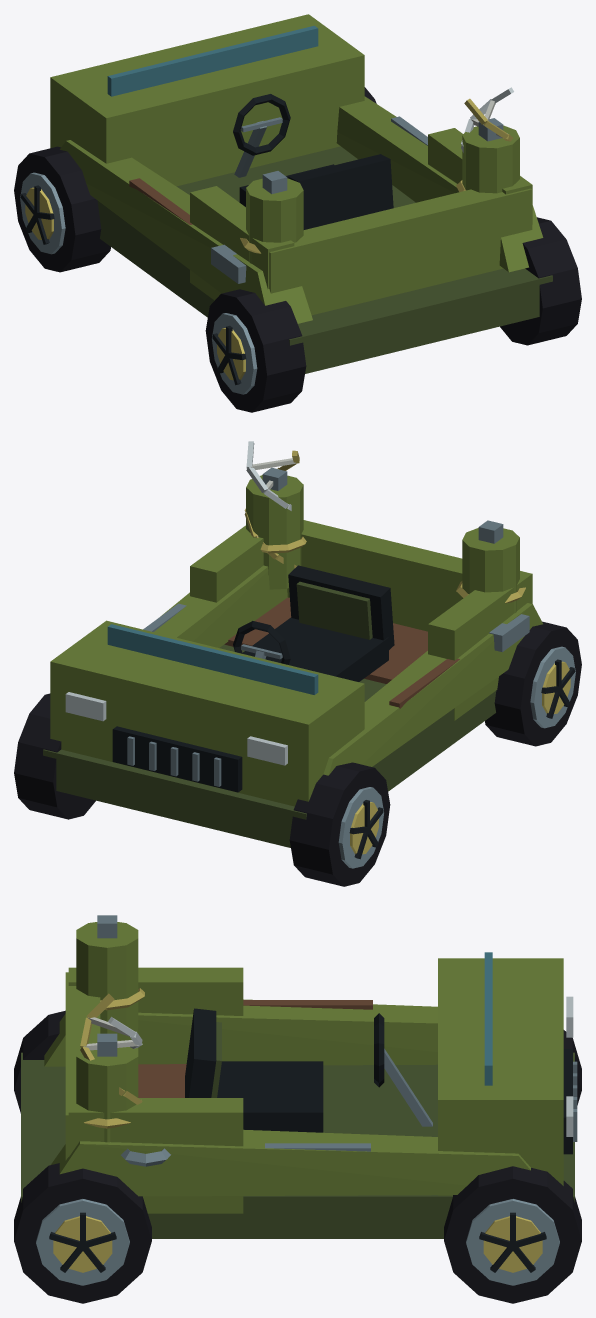
File: kart.glb
The picture shows the model from 3 angles, top to bottom: view 1: azimuth 30°, elevation 25°; view 2: azimuth 150°, elevation 25°; view 3: azimuth 270°, elevation 25°; orthographic projection. The views are drawn at different scales.
Parts seen in each view (by area): view 1: identity-truck-truck-utility-body, wheel-rear-left, wheel-front-left, identity-truck-driver-cockpit, identity-truck-motif-tanks, wheel-rear-right, identity-truck-motif-tools, identity-truck-motif-dna; view 2: identity-truck-truck-utility-body, identity-truck-driver-cockpit, wheel-front-left, identity-truck-motif-tanks, wheel-rear-left, wheel-front-right, identity-truck-motif-tools, identity-truck-motif-dna; view 3: identity-truck-truck-utility-body, wheel-front-right, wheel-rear-right, identity-truck-driver-cockpit, identity-truck-motif-tanks, identity-truck-motif-tools, wheel-rear-left, identity-truck-motif-dna.
Part boxes in pixels (box(x1,y1,x2,y2)): identity-truck-truck-utility-body: box(50, 14, 552, 373); wheel-rear-left: box(205, 289, 306, 412); wheel-front-left: box(14, 146, 110, 272); identity-truck-driver-cockpit: box(233, 94, 393, 229); identity-truck-motif-tanks: box(240, 118, 519, 263); wheel-rear-right: box(500, 217, 581, 345); identity-truck-motif-tools: box(129, 116, 427, 283); identity-truck-motif-dna: box(461, 87, 513, 152); identity-truck-truck-utility-body: box(43, 520, 542, 847); identity-truck-driver-cockpit: box(233, 565, 394, 681); wheel-front-left: box(289, 762, 390, 886); identity-truck-motif-tanks: box(246, 467, 525, 613); wheel-rear-left: box(485, 621, 581, 746); wheel-front-right: box(14, 693, 95, 819); identity-truck-motif-tools: box(143, 603, 529, 708); identity-truck-motif-dna: box(244, 441, 299, 568); identity-truck-truck-utility-body: box(21, 952, 577, 1238); wheel-front-right: box(444, 1166, 581, 1303); wheel-rear-right: box(14, 1163, 151, 1303); identity-truck-driver-cockpit: box(185, 1008, 432, 1132); identity-truck-motif-tanks: box(76, 915, 144, 1142); identity-truck-motif-tools: box(121, 1000, 372, 1166); wheel-rear-left: box(14, 1010, 65, 1113); identity-truck-motif-dna: box(80, 993, 142, 1104).
Bounding box in the file's own units: 2.13 × 1.47 × 2.8.
